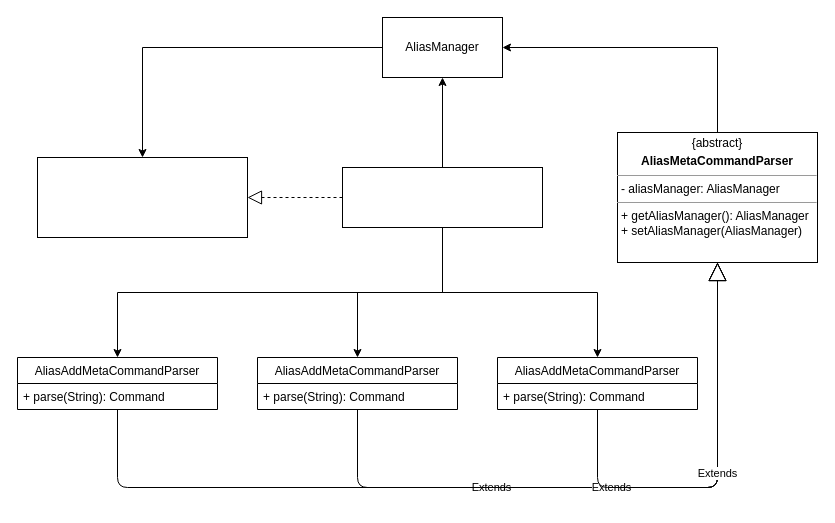
Image size: 835x523. Some labels were removed from this diagram. Each missing label, with the centre of its shape:
<<Interface>> CommandValidator + isValidCommand(String): boolean: point (142, 197)
SourceManagerParser: point (442, 197)
